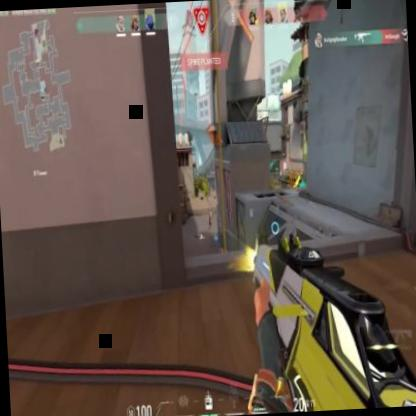enemy: (206, 209, 212, 228)
enemy_head: (207, 209, 209, 212)
